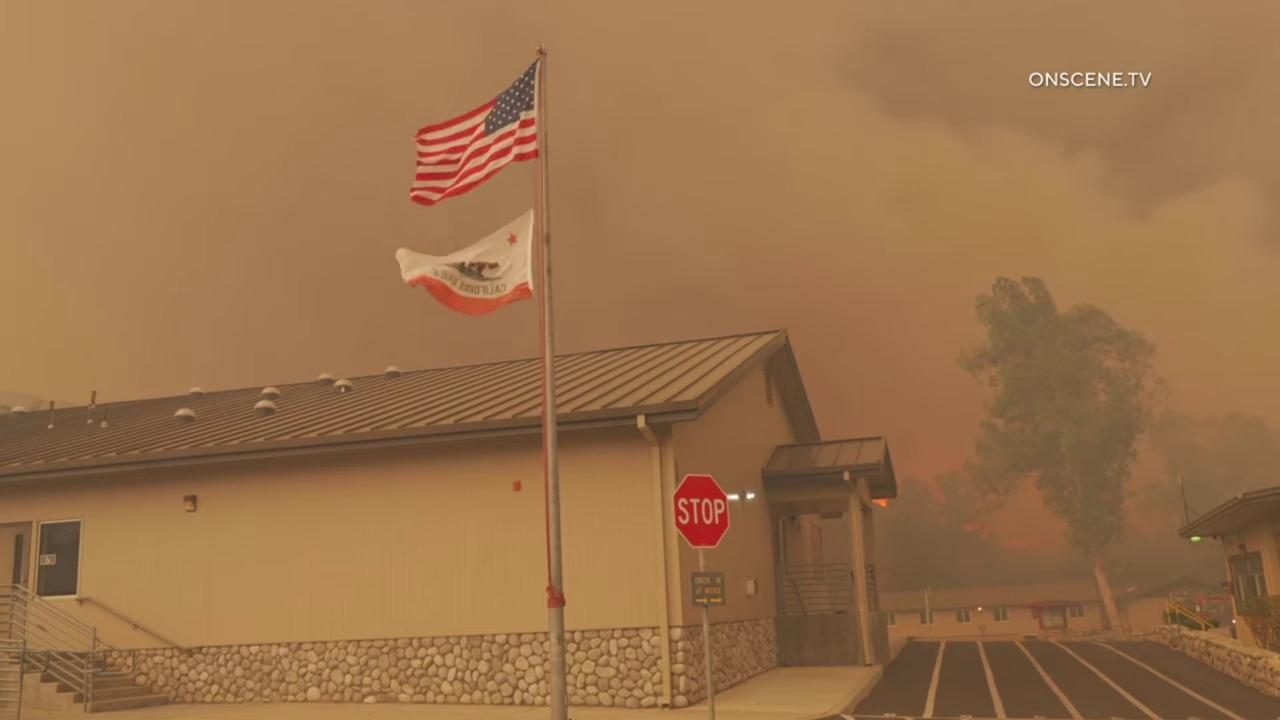fire: (871, 498, 894, 511)
smoke: (0, 0, 1280, 588)
